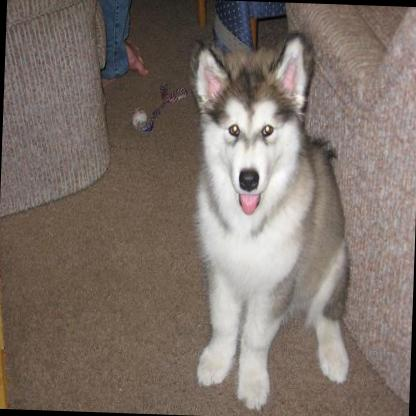malamute: (173, 26, 363, 413)
